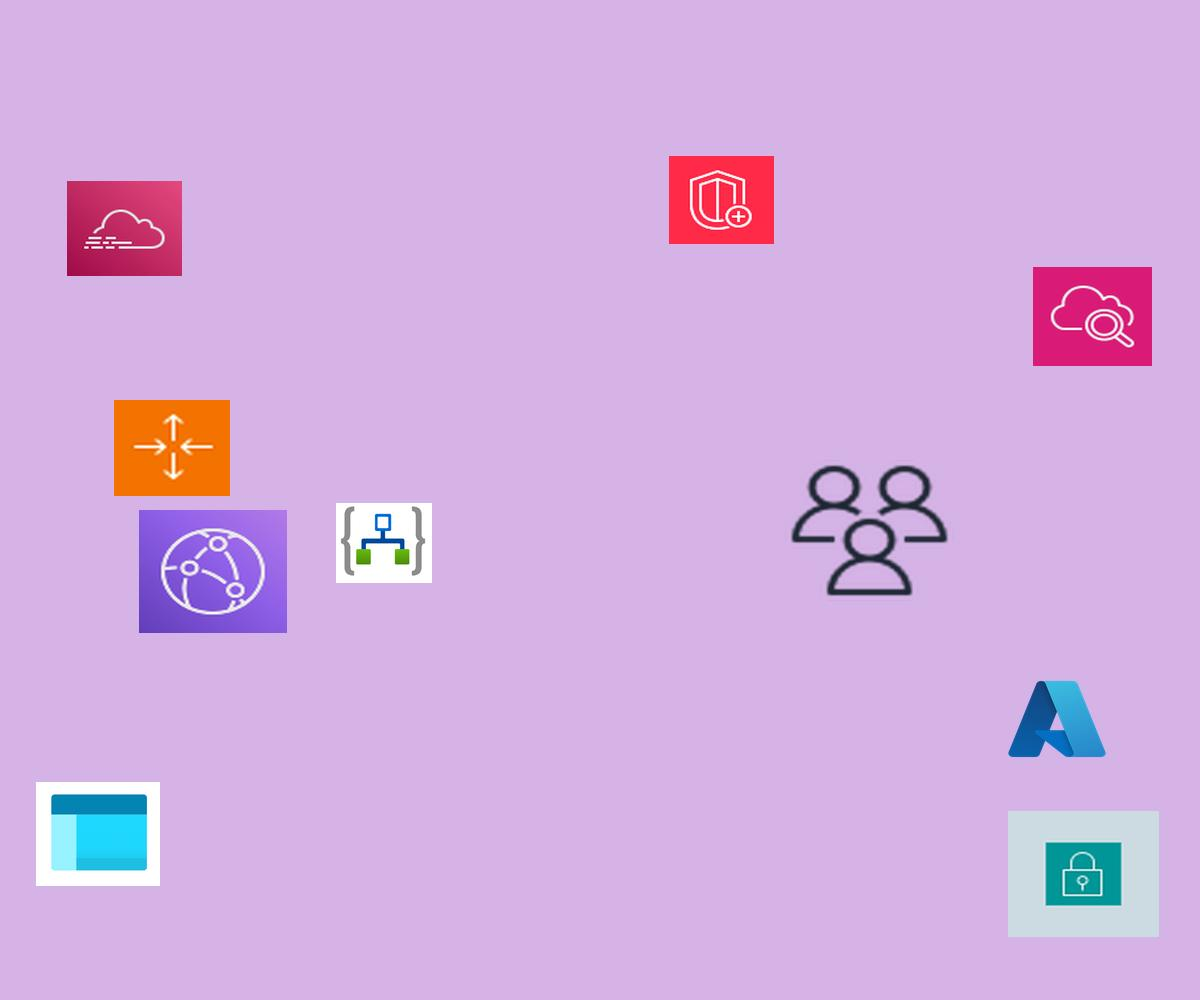AWS-CloudFront: (139, 510, 287, 633)
AWS-CloudTrail: (67, 181, 182, 276)
AWS-CloudWatch: (1033, 267, 1152, 366)
AWS-Private-subnet: (1008, 811, 1159, 937)
AWS-Res_Users: (785, 460, 954, 601)
AWS-Scaling-group: (114, 400, 230, 496)
AWS-Shield: (669, 156, 774, 244)
Azure_integration-204-Logic-Apps: (336, 503, 432, 583)
Azure_management-portal: (36, 782, 160, 886)
Azure_services: (1004, 675, 1110, 763)
